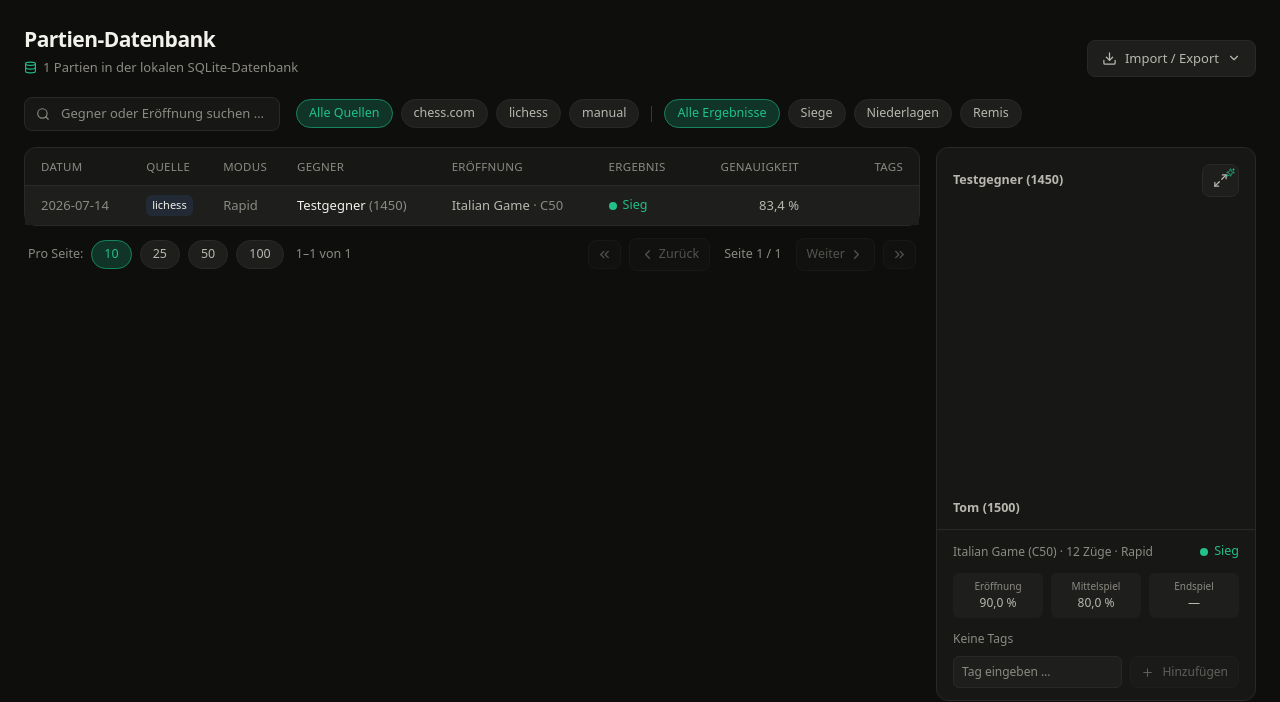
Test: Games page › explains PGN player perspective and separates import from export
The width and height of the screenshot is (1280, 702).
Check: the button "Testgegner" is shown, box [297,196,366,215]
Click the button "Import / Export". click: {"x": 1171, "y": 58}
box: [1087,40,1256,77]
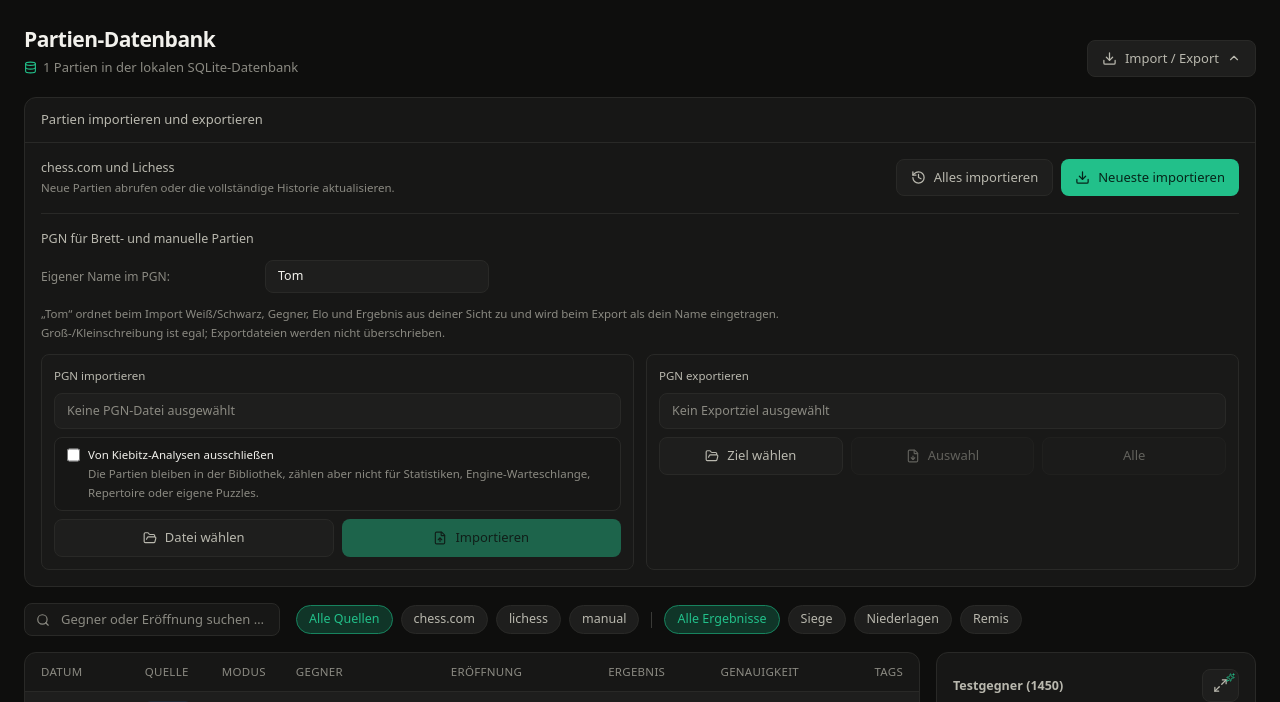
Check: the text "PGN importieren" is shown, box [54,368,145,383]
Check: the text "PGN exportieren" is shown, box [659,368,749,383]
Check: the text "ordnet beim Import Weiß/Schwarz, Gegner, Elo und Ergebnis" is shown, box [41,306,779,340]
